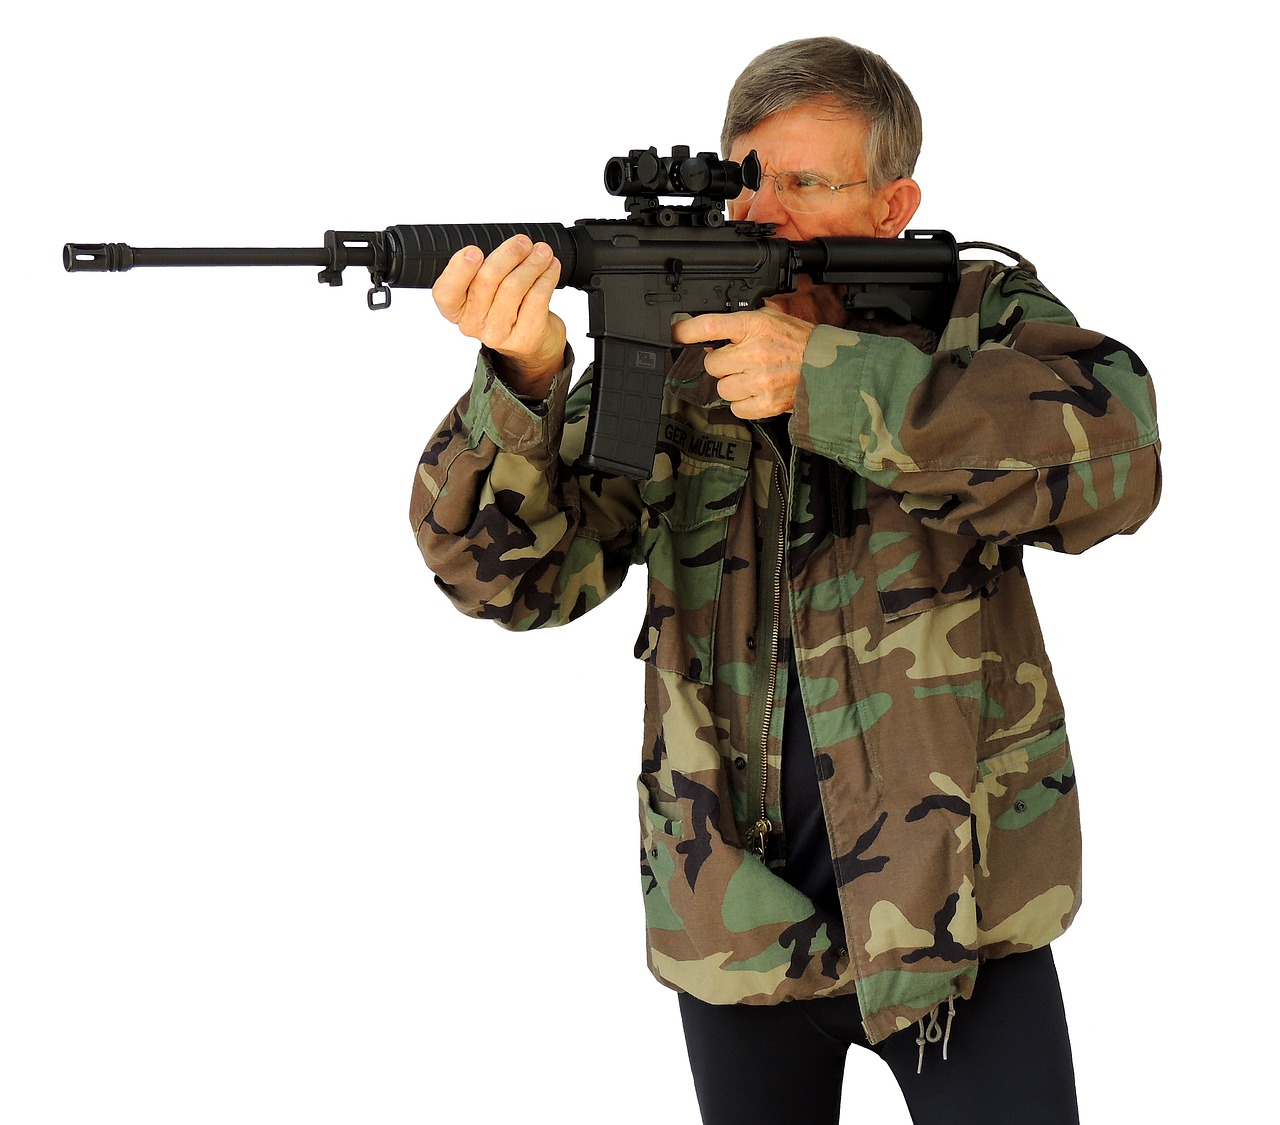gun: (57, 139, 967, 487)
